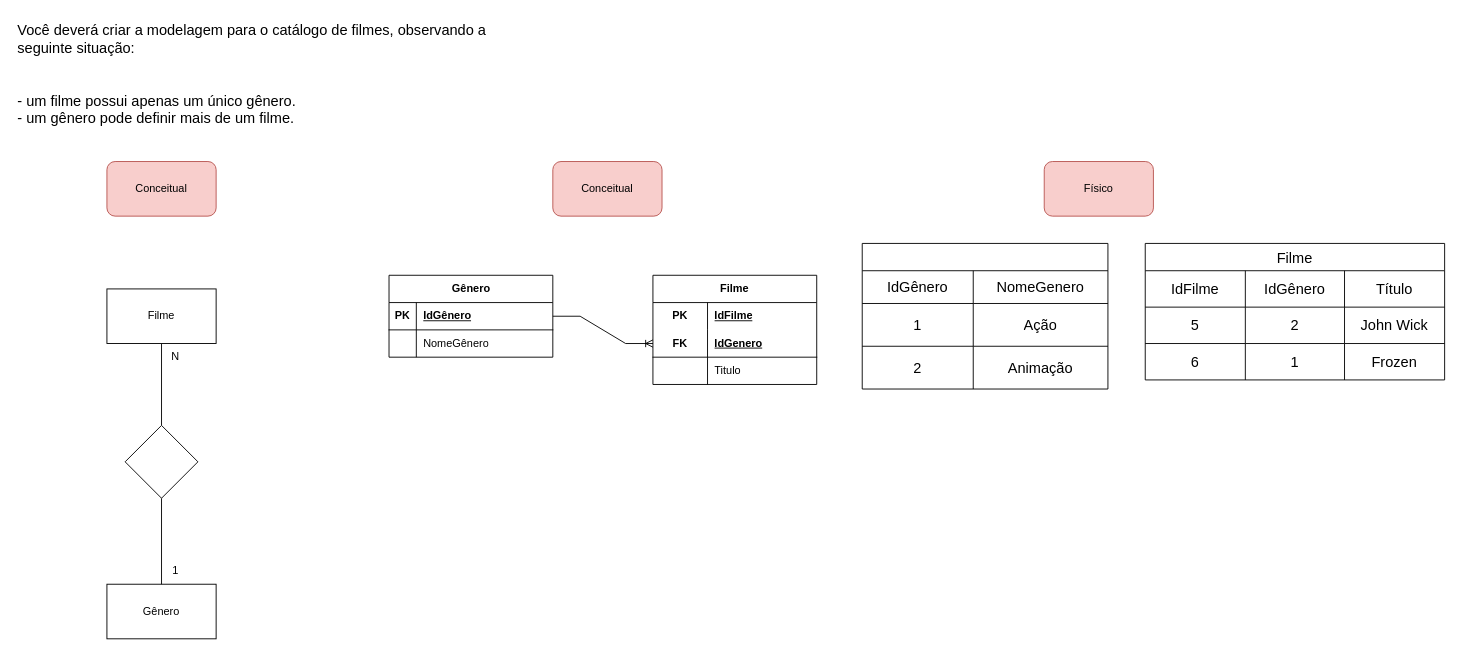
Some shapes in this 1461 by 654 pixel diagram are drawn without their labels. The box of each missing label's shape, as (x1, y1, x2, y2) in pixels:
Possui: (124, 425, 198, 498)
Table: (861, 243, 1108, 389)
